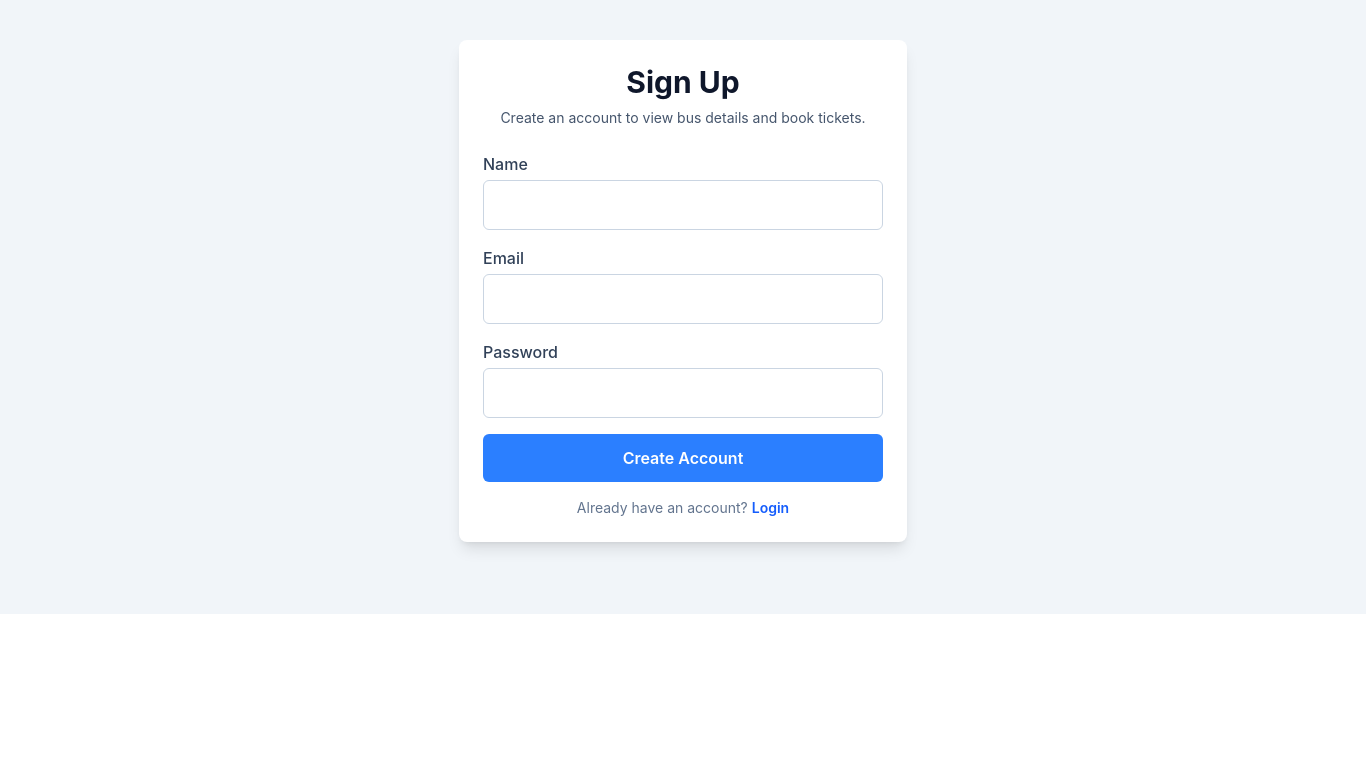
it: Signup › shows service validation errors
Type "New User" into the field labelled "Name". click: {"x": 683, "y": 205}
box: [483,180,883,230]
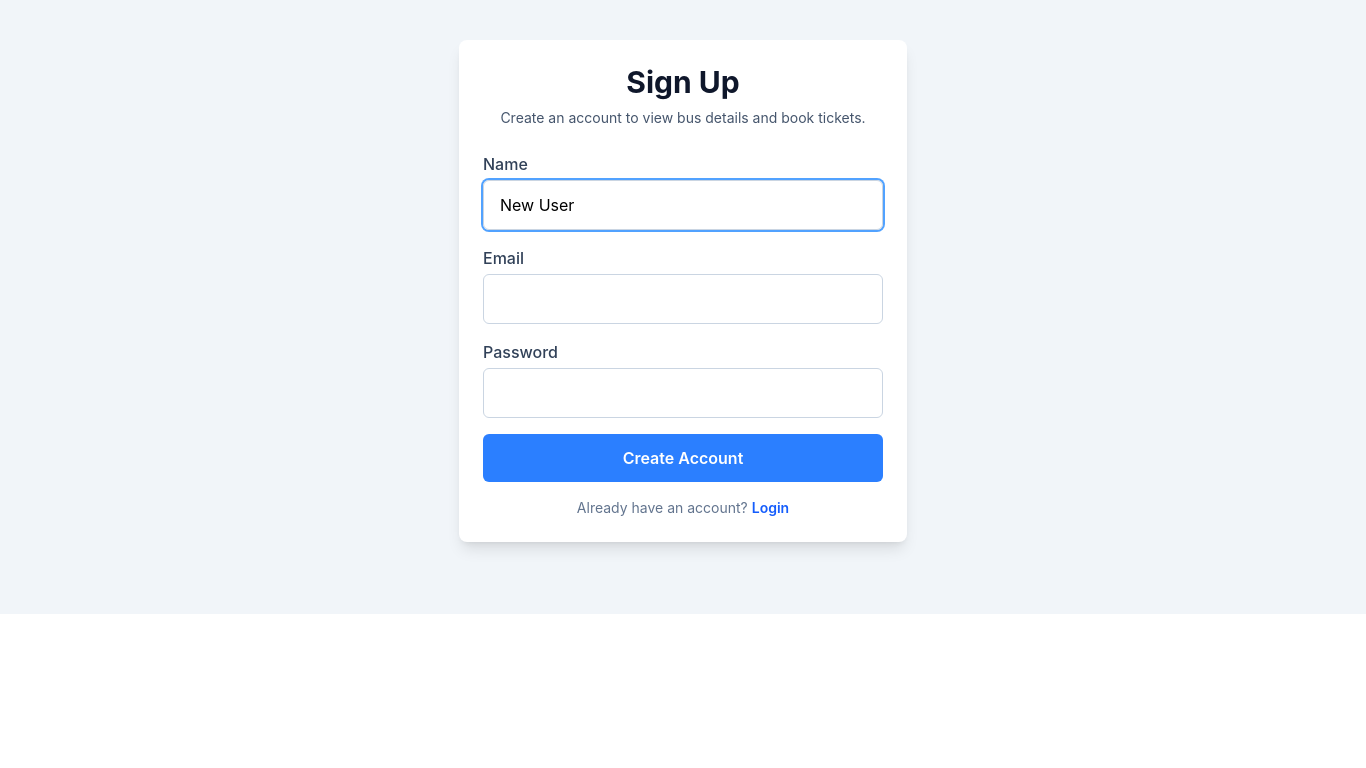
Type "new@example.com" into the field labelled "Email". click: {"x": 683, "y": 299}
box: [483,274,883,324]
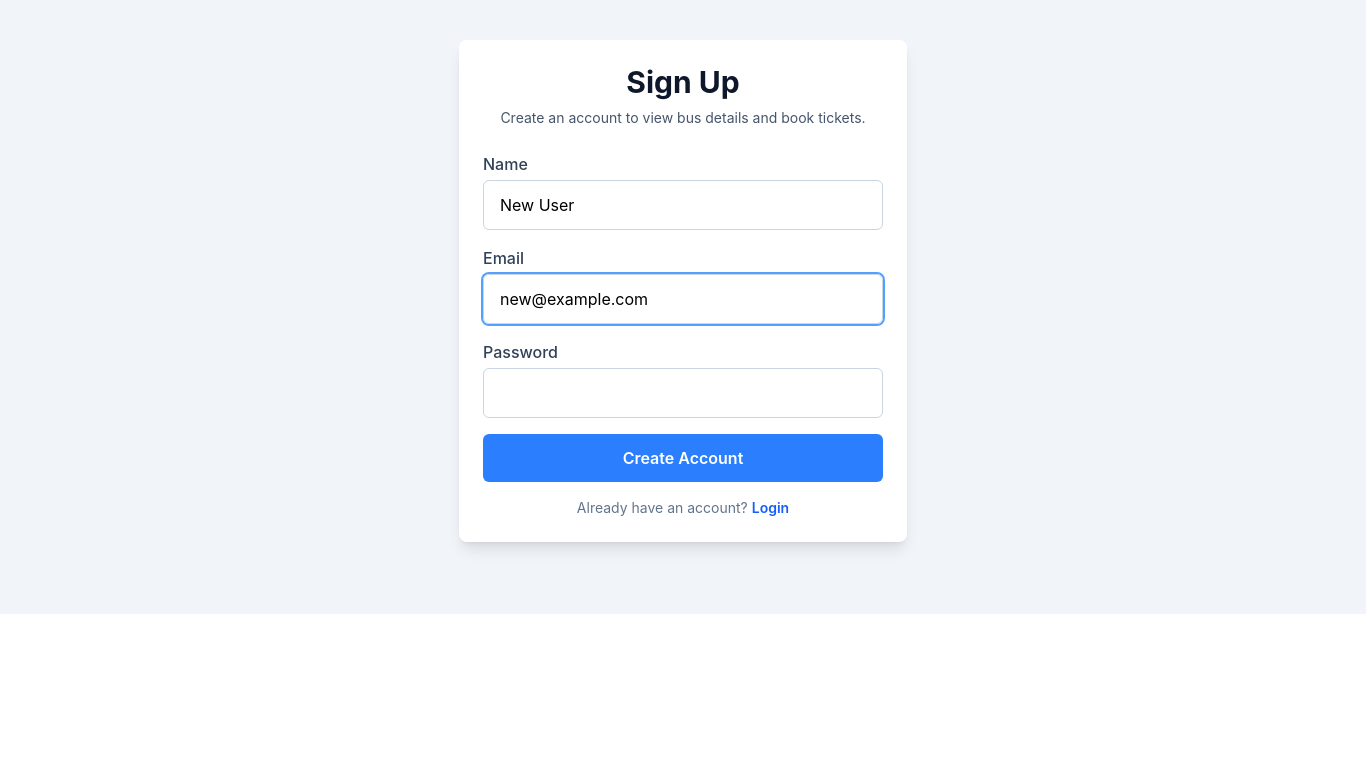
Type "12345" into the password field labelled "Password". click: {"x": 683, "y": 393}
box: [483,368,883,418]
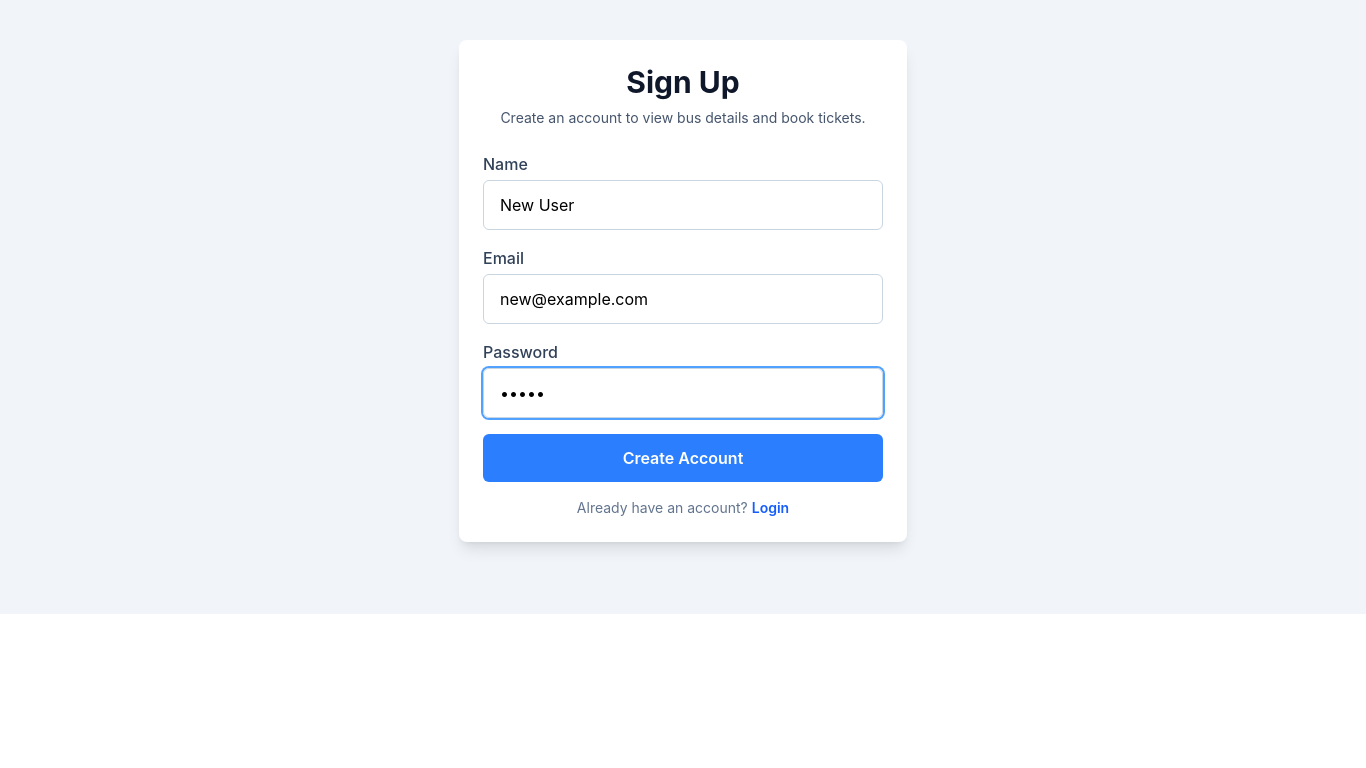
Click the button "Create Account". click: {"x": 683, "y": 458}
box: [483,434,883,482]
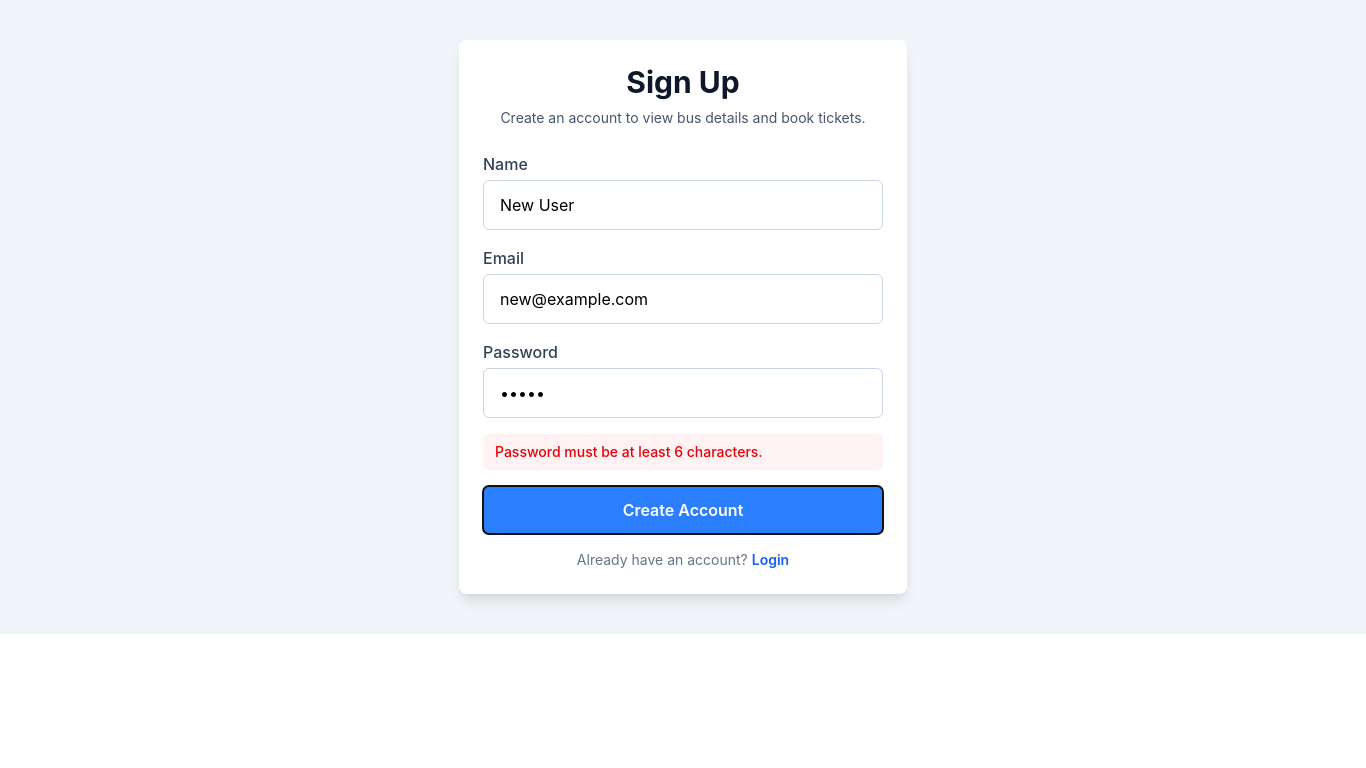
Result: the text "Password must be at least 6 characters." is shown at [483,434,883,470]
